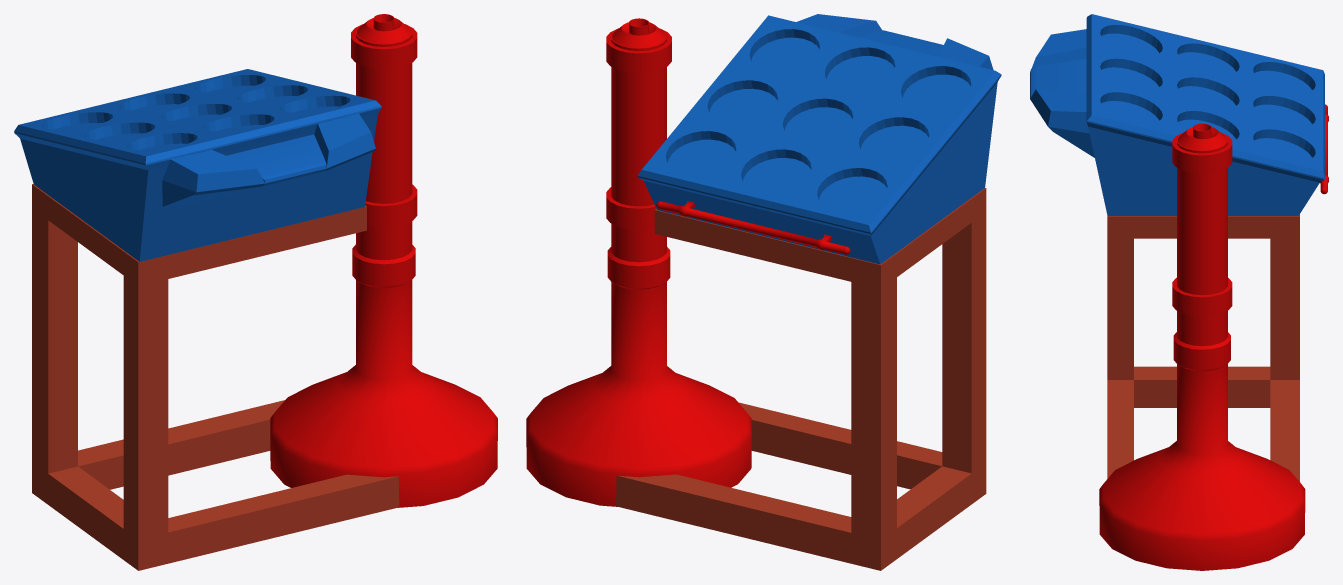
File: Console UV Mapped.FBX
3 views of the same model, side by side, from view 1: azimuth 30°, elevation 25°; view 2: azimuth 150°, elevation 25°; view 3: azimuth 270°, elevation 25° (orthographic). The views are drawn at different scales.
Parts seen in each view (by area): view 1: Cube002, Cylinder001, Cube_002, Cube; view 2: Cube_002, Cube002, Cylinder001, Cube, Cylinder002; view 3: Cylinder001, Cube_002, Cube002, Cube.
Part boxes in pixels (<box>): Cube002: <box>32,184,399,570</box>; Cylinder001: <box>270,14,497,507</box>; Cube_002: <box>14,69,381,261</box>; Cube: <box>162,113,375,206</box>; Cube_002: <box>637,15,1001,264</box>; Cube002: <box>616,188,986,570</box>; Cylinder001: <box>526,18,751,506</box>; Cube: <box>796,14,993,70</box>; Cylinder002: <box>656,201,850,254</box>; Cylinder001: <box>1099,123,1305,570</box>; Cube_002: <box>1086,14,1324,215</box>; Cube002: <box>1107,214,1299,481</box>; Cube: <box>1030,29,1094,157</box>.
Bounding box in the file's own units: 110 × 115 × 78.14.
